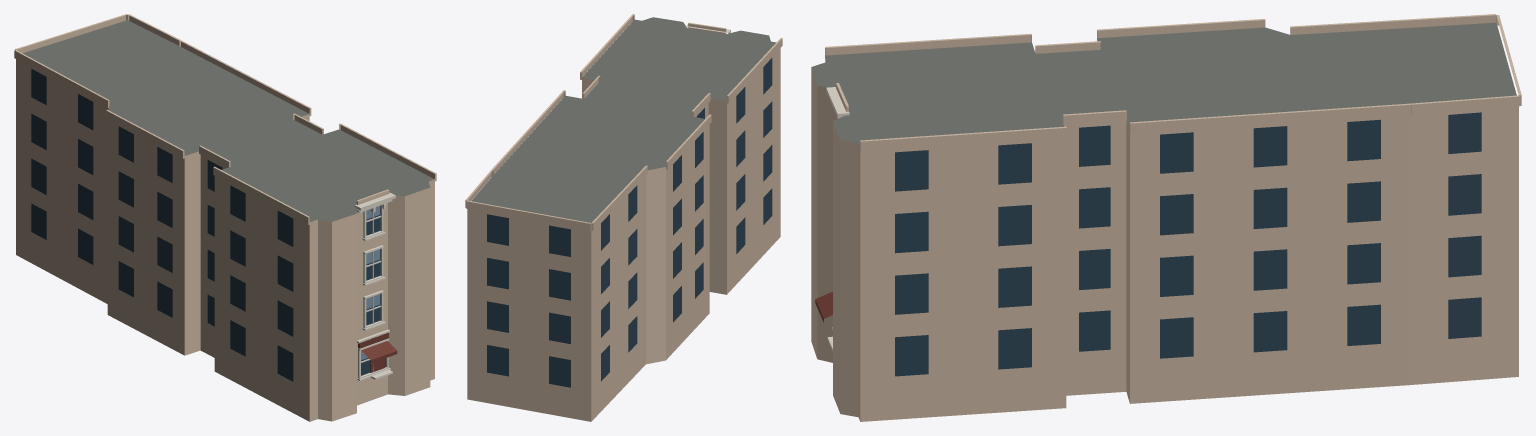
The picture shows the model from 3 angles, left to right: view 1: azimuth 30°, elevation 25°; view 2: azimuth 150°, elevation 25°; view 3: azimuth 270°, elevation 25°; orthographic projection. The views are drawn at different scales.
Parts seen in each view (by area): view 1: Footprint 0 / surface 2, Footprint 0 / surface 1, Inset glazing, Facade bay volumes, Cornices and window frames, Storefronts and doors, Sky reflection panels; view 2: Footprint 0 / surface 2, Footprint 0 / surface 1, Inset glazing, Facade bay volumes; view 3: Footprint 0 / surface 2, Footprint 0 / surface 1, Inset glazing, Facade bay volumes.
Part boxes in pixels (bbox=[...]): Footprint 0 / surface 2: bbox=[16, 59, 434, 421]; Footprint 0 / surface 1: bbox=[23, 20, 434, 221]; Inset glazing: bbox=[31, 69, 385, 381]; Facade bay volumes: bbox=[14, 14, 436, 224]; Cornices and window frames: bbox=[354, 192, 395, 380]; Storefronts and doors: bbox=[358, 332, 397, 372]; Sky reflection panels: bbox=[361, 206, 379, 360]; Footprint 0 / surface 2: bbox=[467, 48, 780, 421]; Footprint 0 / surface 1: bbox=[471, 17, 775, 222]; Inset glazing: bbox=[487, 58, 772, 387]; Facade bay volumes: bbox=[465, 14, 782, 231]; Footprint 0 / surface 2: bbox=[811, 38, 1518, 421]; Footprint 0 / surface 1: bbox=[811, 22, 1516, 147]; Inset glazing: bbox=[895, 112, 1481, 376]; Facade bay volumes: bbox=[825, 14, 1521, 152].
Bounding box in the file's own units: 12.85 × 13.21 × 30.22.
